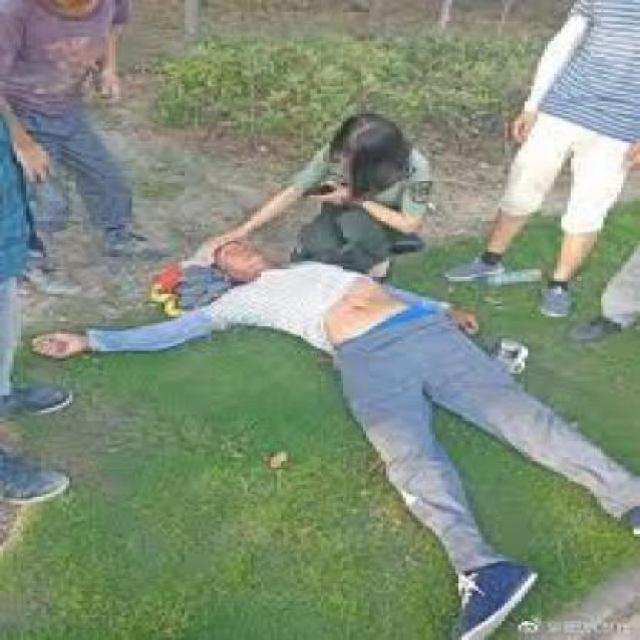fall: (6, 216, 637, 624)
